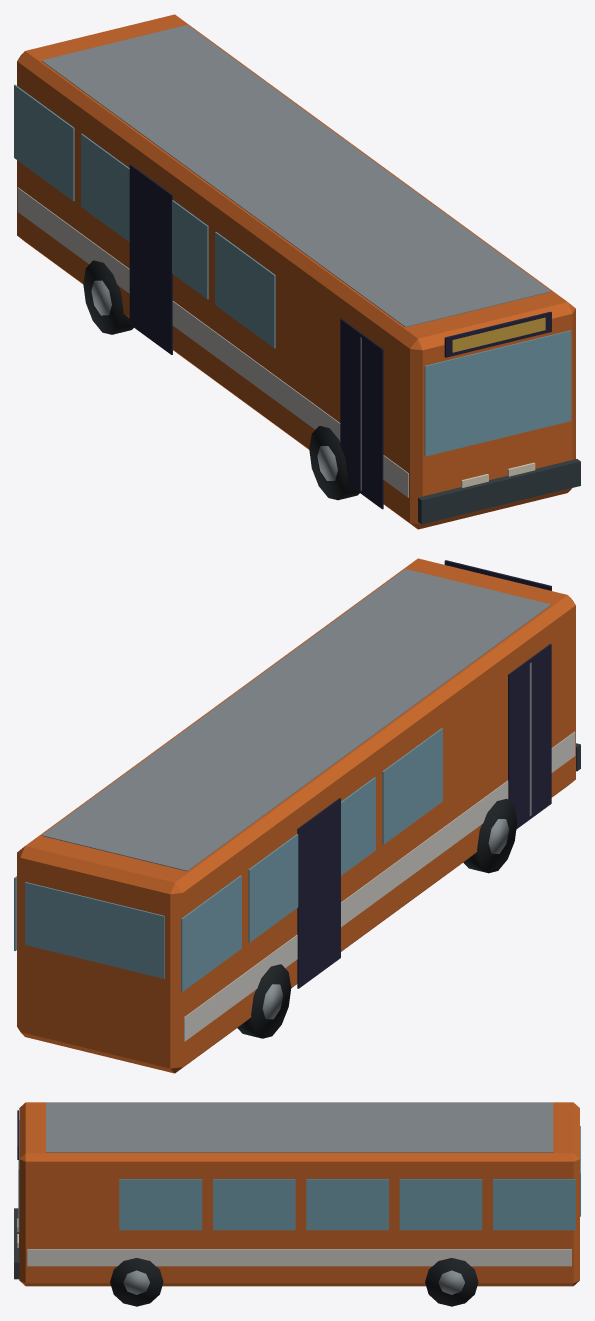
File: bus_orange1.glb
3 views of the same model, one above another, from view 1: azimuth 30°, elevation 25°; view 2: azimuth 150°, elevation 25°; view 3: azimuth 270°, elevation 25° (orthographic). The views are drawn at different scales.
Parts seen in each view (by area): view 1: bus_orange1; view 2: bus_orange1; view 3: bus_orange1.
Part boxes in pixels (bbox=[...]): bus_orange1: bbox=[14, 14, 580, 529]; bus_orange1: bbox=[14, 558, 580, 1073]; bus_orange1: bbox=[14, 1102, 580, 1306].
Size of the model in its own units: 2.6 by 3.11 by 10.62.
